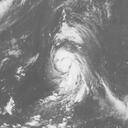cyclone: (48, 39, 90, 94)
